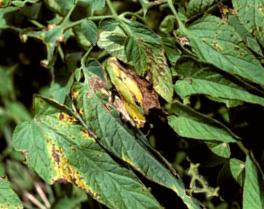Tomato leaf bacterial spot: (0, 77, 165, 209), (55, 60, 196, 209), (170, 0, 264, 122), (106, 8, 200, 111)
